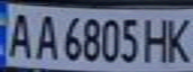0: (100, 16, 121, 63)
5: (118, 15, 145, 64)
6: (57, 12, 84, 62)
8: (78, 15, 103, 63)
A: (3, 8, 36, 60), (30, 10, 60, 61)
H: (139, 13, 175, 64)
K: (160, 13, 193, 64)
